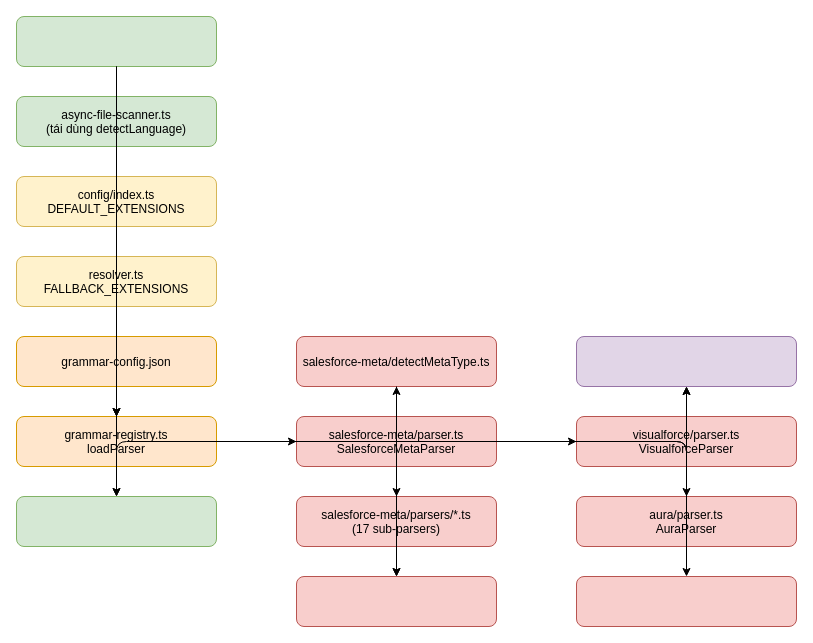
This 813x643 diagram has some shape labels left out. The shapes that lost their labels are listed below. From the top down, each one's centre as x and y in pixels, then its label:
At (116,41): "file-scanner.ts (detectLanguage / processFile)".
At (686,361): "salesforce-markup/shared.ts extractMarkupTopLevel".
At (116,521): "module-helper.ts detectModule".
At (396,601): "salesforce-meta/helpers.ts".
At (686,601): "apex/parser.ts apex-parser (tree-sitter)".
